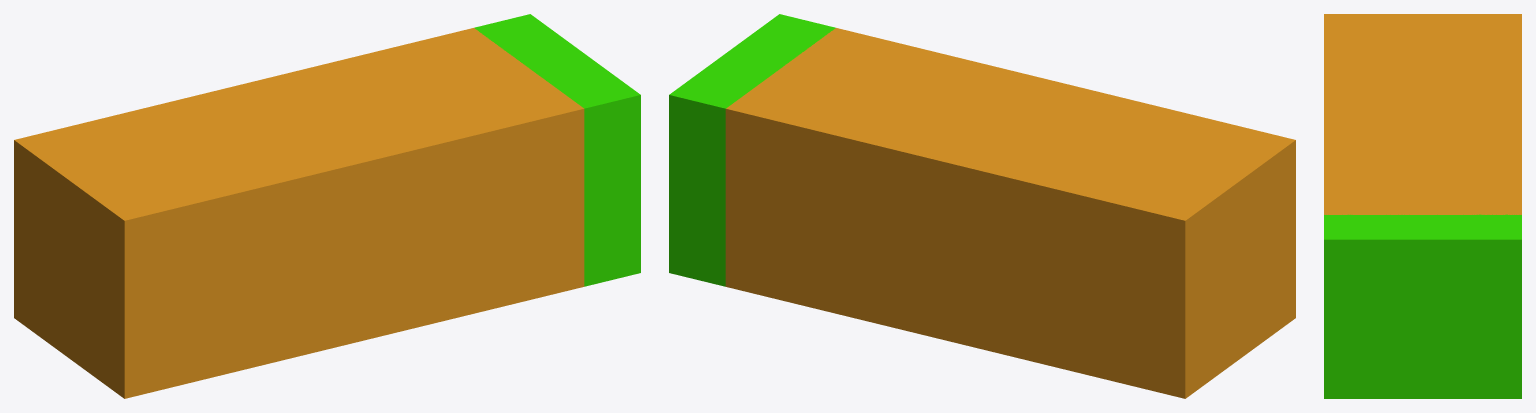
The model's file is push 1.fbx.
3 renders of one model, left to right at view 1: azimuth 30°, elevation 25°; view 2: azimuth 150°, elevation 25°; view 3: azimuth 270°, elevation 25°, orthographic. The views are drawn at different scales.
Visible parts, largest first — view 1: Cube, Cube.001; view 2: Cube, Cube.001; view 3: Cube, Cube.001.
Boxes of the visible parts, x1,y1,x2,y2 form: Cube: (14, 28, 584, 398); Cube.001: (474, 14, 640, 286); Cube: (725, 28, 1295, 398); Cube.001: (669, 14, 835, 286); Cube: (1324, 14, 1521, 214); Cube.001: (1324, 214, 1521, 398).
Size of the model in its own units: 2892 by 953 by 1072.
